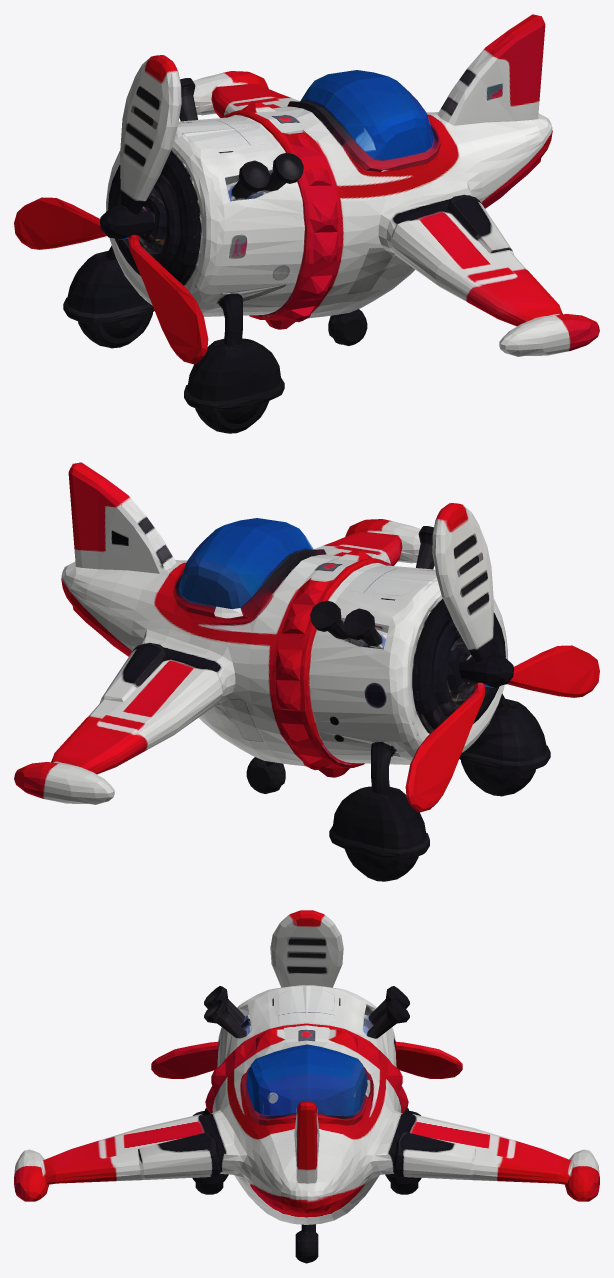
Rendered from Meshy_AI_Skullfire_Colossus_0630104021_texture.glb.
3 renders of one model, top to bottom at view 1: azimuth 30°, elevation 25°; view 2: azimuth 150°, elevation 25°; view 3: azimuth 270°, elevation 25°, orthographic. The views are drawn at different scales.
Size of the model in its own units: 1.41 by 0.9941 by 1.91.
1 material, 1 textured.
